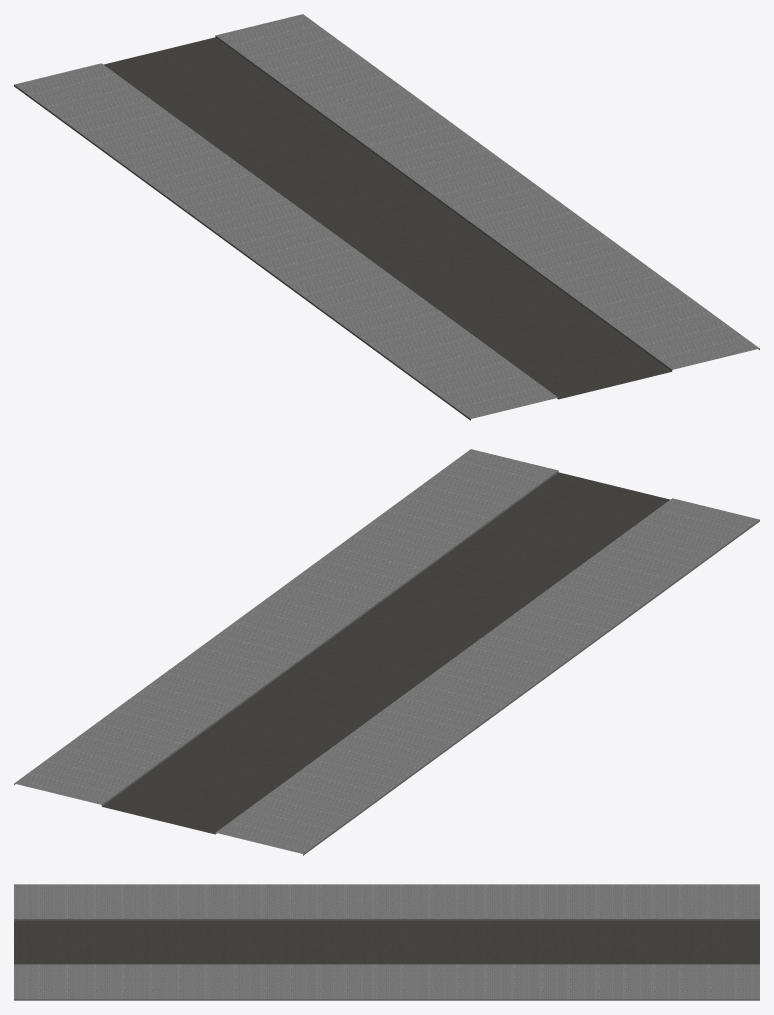
Rendered from Road.FBX.
3 renders of one model, top to bottom at view 1: azimuth 30°, elevation 25°; view 2: azimuth 150°, elevation 25°; view 3: azimuth 270°, elevation 25°, orthographic. The views are drawn at different scales.
Parts seen in each view (by area): view 1: Road; view 2: Road; view 3: Road.
Boxes of the visible parts, left/top/right/bottom form: Road: left=14, top=14, right=759, bottom=420; Road: left=14, top=449, right=759, bottom=855; Road: left=14, top=884, right=759, bottom=1000.
Bounding box in the file's own units: 40.44 × 0.2445 × 111.
2 materials, 2 textured.
